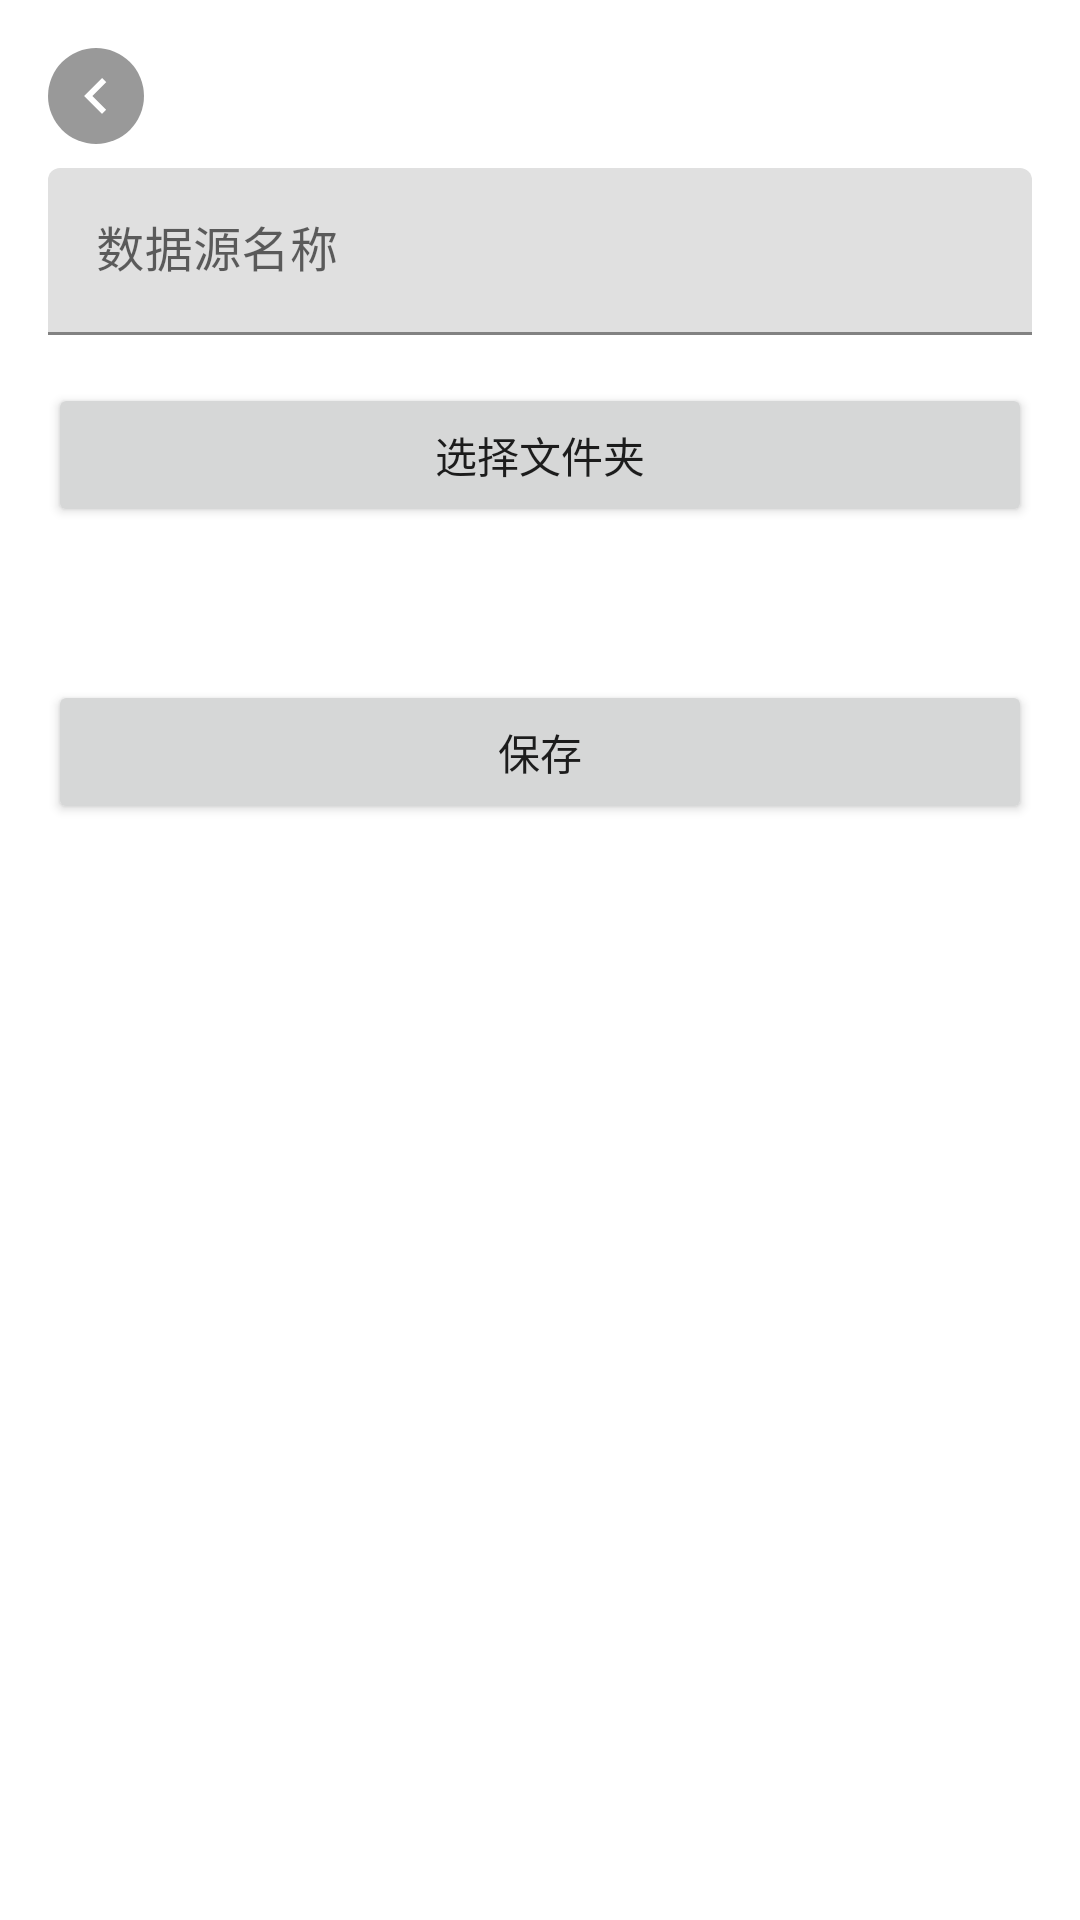

Named icons in this screenshot (1080w x 1920h) and their centers, point (x, y):
返回: point (96, 96)
